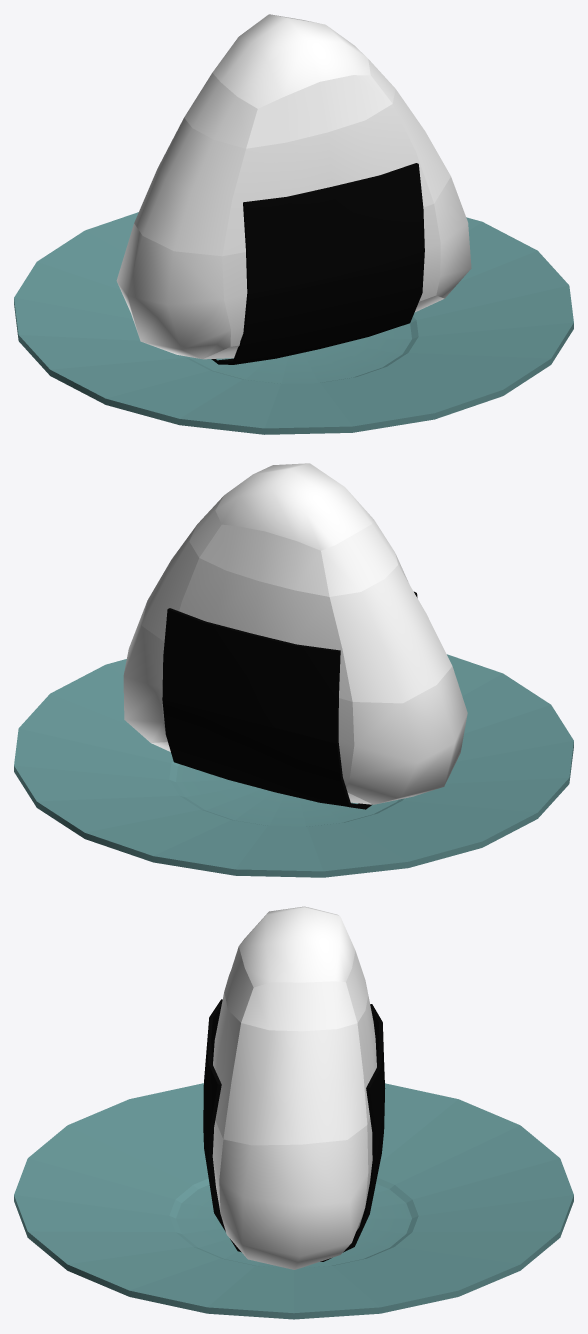
The model's file is onigiri.fbx.
3 renders of one model, top to bottom at view 1: azimuth 30°, elevation 25°; view 2: azimuth 150°, elevation 25°; view 3: azimuth 270°, elevation 25°, orthographic.
Parts seen in each view (by area): view 1: polySurface6; view 2: polySurface6; view 3: polySurface6.
Part boxes in pixels (left/top/right/bottom): polySurface6: left=14, top=14, right=573, bottom=434; polySurface6: left=14, top=463, right=573, bottom=877; polySurface6: left=14, top=906, right=573, bottom=1319.
Bounding box in the file's own units: 5.79 × 3.8 × 5.79.
